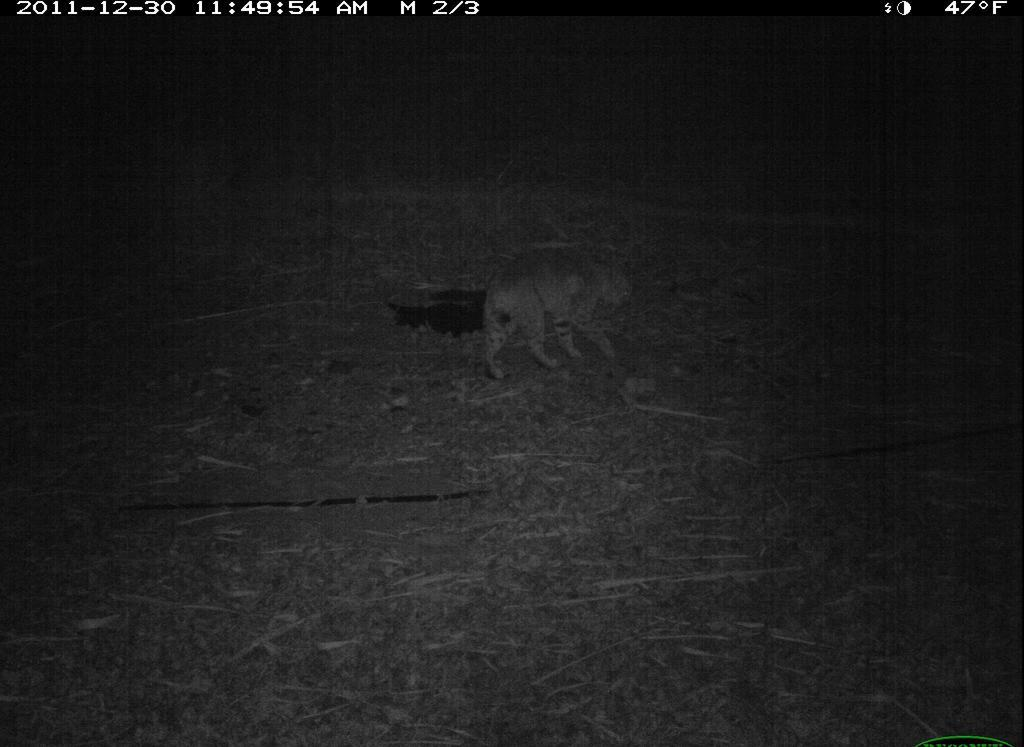bobcat: (464, 235, 650, 393)
